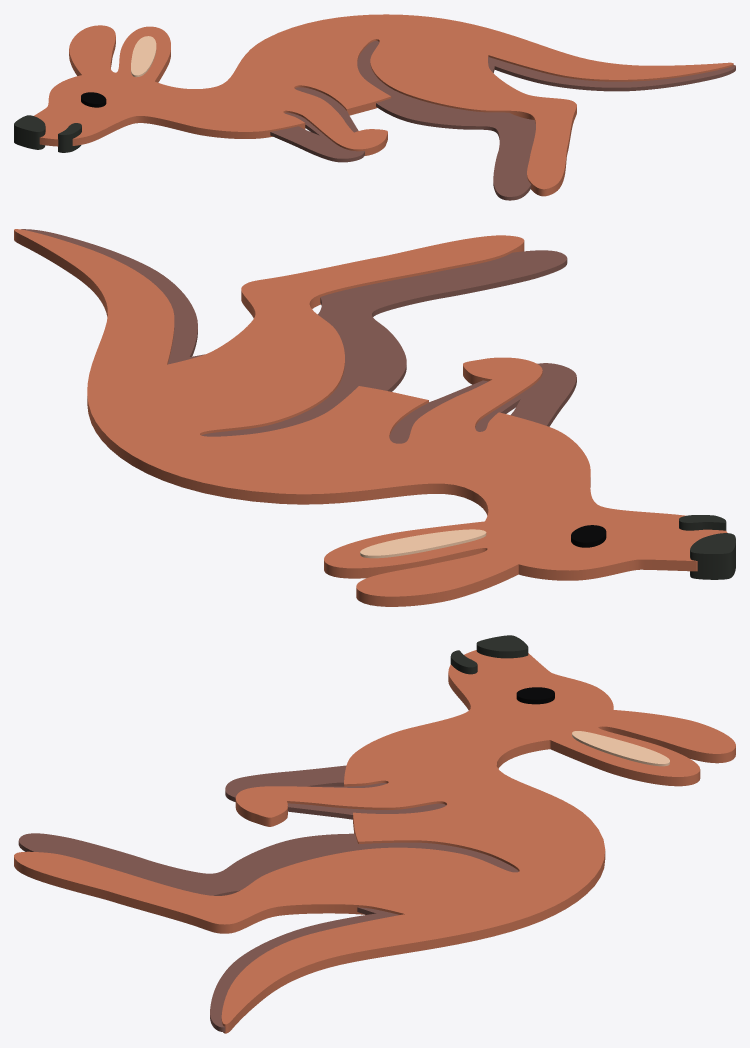
File: emoji_u1f998.glb
The picture shows the model from 3 angles, top to bottom: view 1: azimuth 30°, elevation 25°; view 2: azimuth 150°, elevation 25°; view 3: azimuth 270°, elevation 25°; orthographic projection. The views are drawn at different scales.
Visible parts, largest first — view 1: emoji_u1f998; view 2: emoji_u1f998; view 3: emoji_u1f998.
Boxes of the visible parts, <box> form: emoji_u1f998: <box>14,14,735,200</box>; emoji_u1f998: <box>14,229,735,606</box>; emoji_u1f998: <box>14,635,735,1033</box>.
Size of the model in its own units: 0.0357 by 0.001 by 0.0284.
